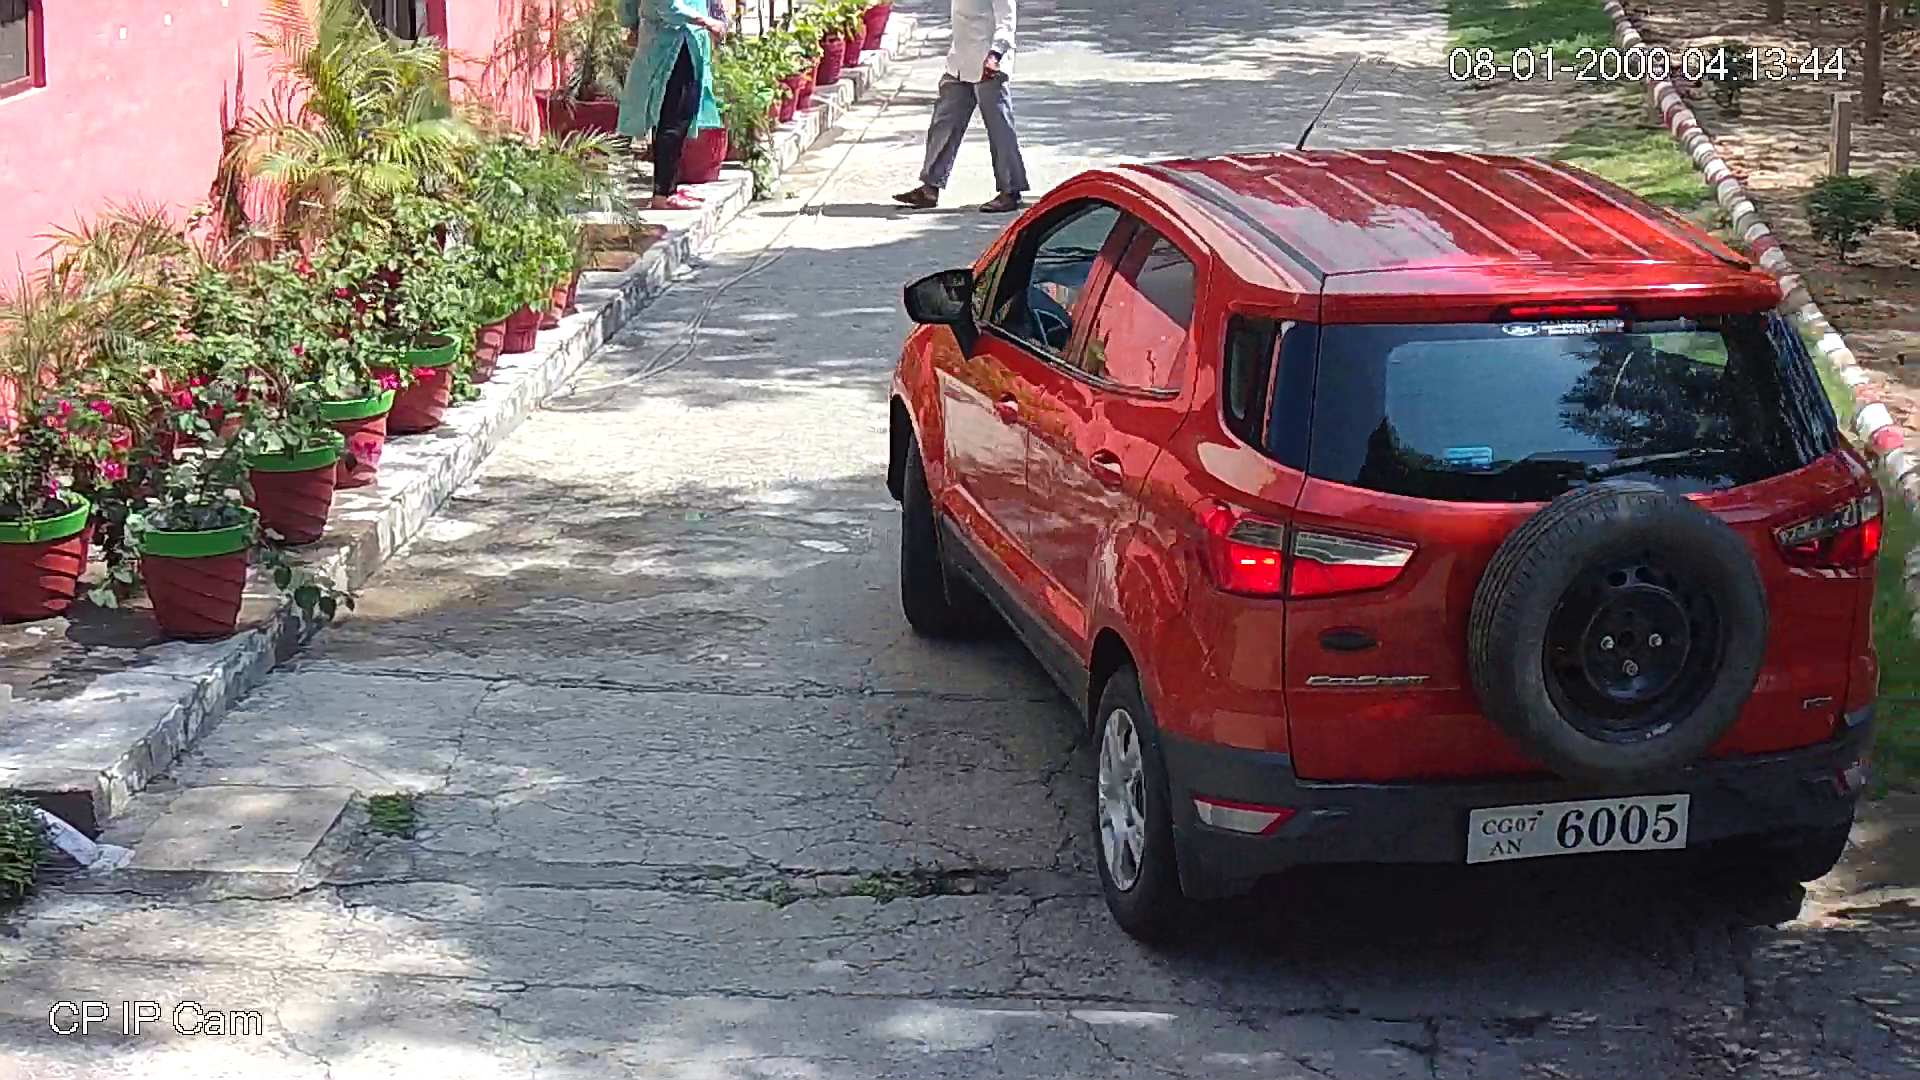plate: (1459, 785, 1703, 876)
